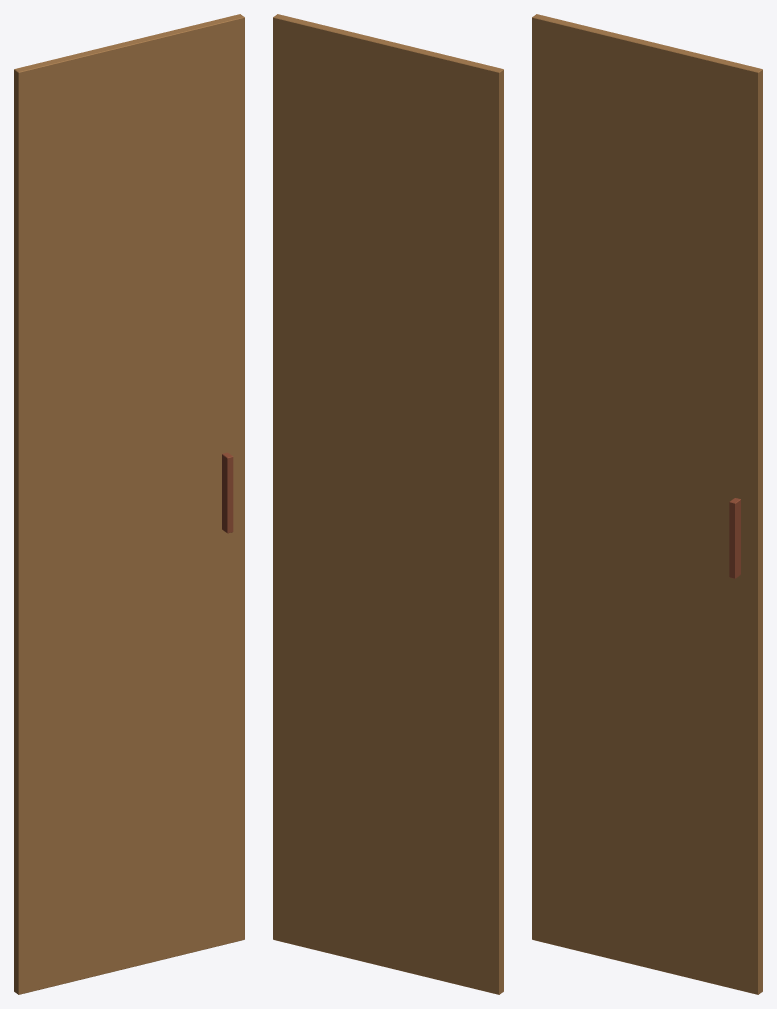
Rendered from wardrobe_pullout_baskets_door.glb.
3 views of the same model, side by side, from view 1: azimuth 30°, elevation 25°; view 2: azimuth 150°, elevation 25°; view 3: azimuth 330°, elevation 25° (orthographic).
Parts seen in each view (by area): view 1: wardrobe_pullout_baskets_door.001; view 2: wardrobe_pullout_baskets_door.001; view 3: wardrobe_pullout_baskets_door.001.
Boxes of the visible parts, box(x1,y1,x2,y2) form: wardrobe_pullout_baskets_door.001: box(14, 14, 244, 994); wardrobe_pullout_baskets_door.001: box(273, 14, 503, 994); wardrobe_pullout_baskets_door.001: box(532, 14, 762, 994).
Size of the model in its own units: 0.5 by 1.94 by 0.04.
